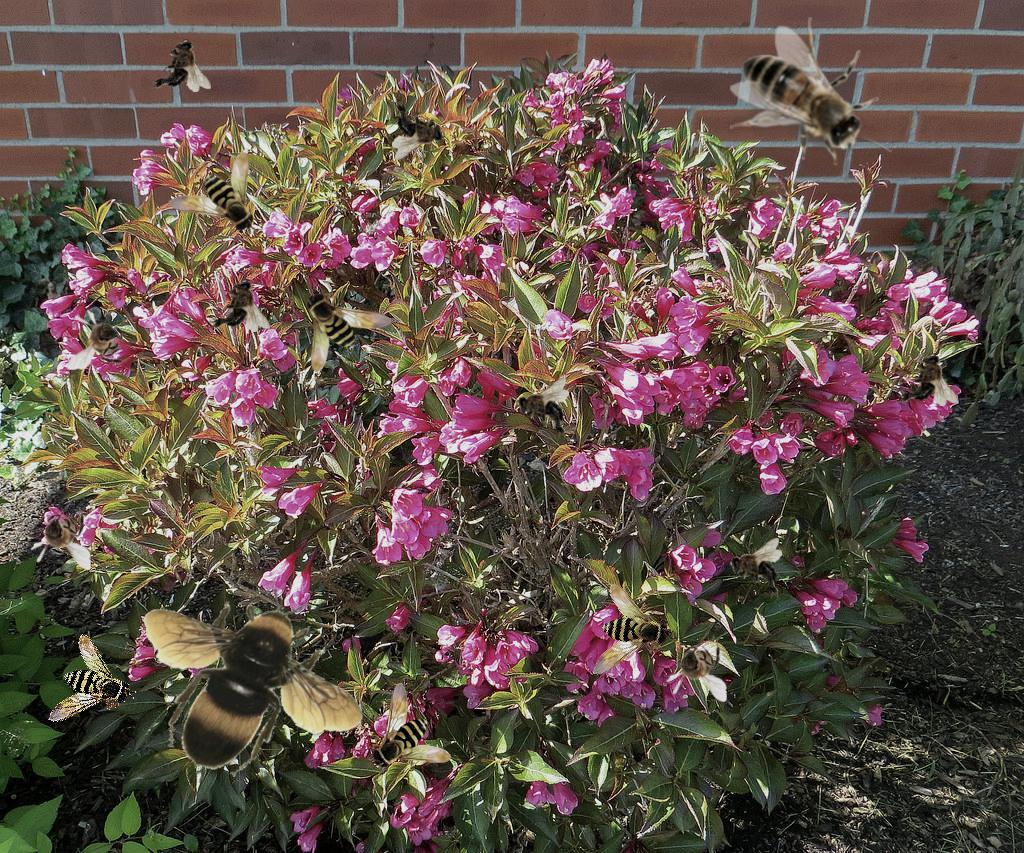Bee: (144, 586, 364, 777), (730, 17, 892, 184), (557, 575, 679, 697), (19, 628, 139, 746), (168, 152, 256, 234), (369, 682, 451, 770), (304, 290, 392, 372), (666, 632, 727, 702), (30, 500, 91, 570), (67, 309, 137, 370), (208, 279, 270, 332), (149, 39, 211, 92), (392, 98, 445, 160), (516, 378, 569, 440), (729, 538, 782, 600), (896, 353, 958, 406)
